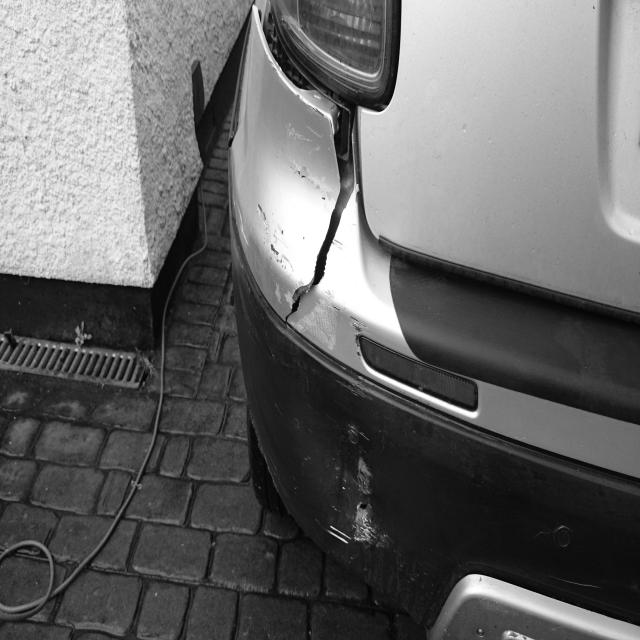misalignment: (253, 4, 353, 118)
scratch: (319, 423, 402, 562), (266, 57, 331, 203), (234, 199, 303, 310), (288, 289, 370, 361), (335, 374, 376, 405), (330, 236, 346, 254)
tear: (284, 109, 359, 326)
